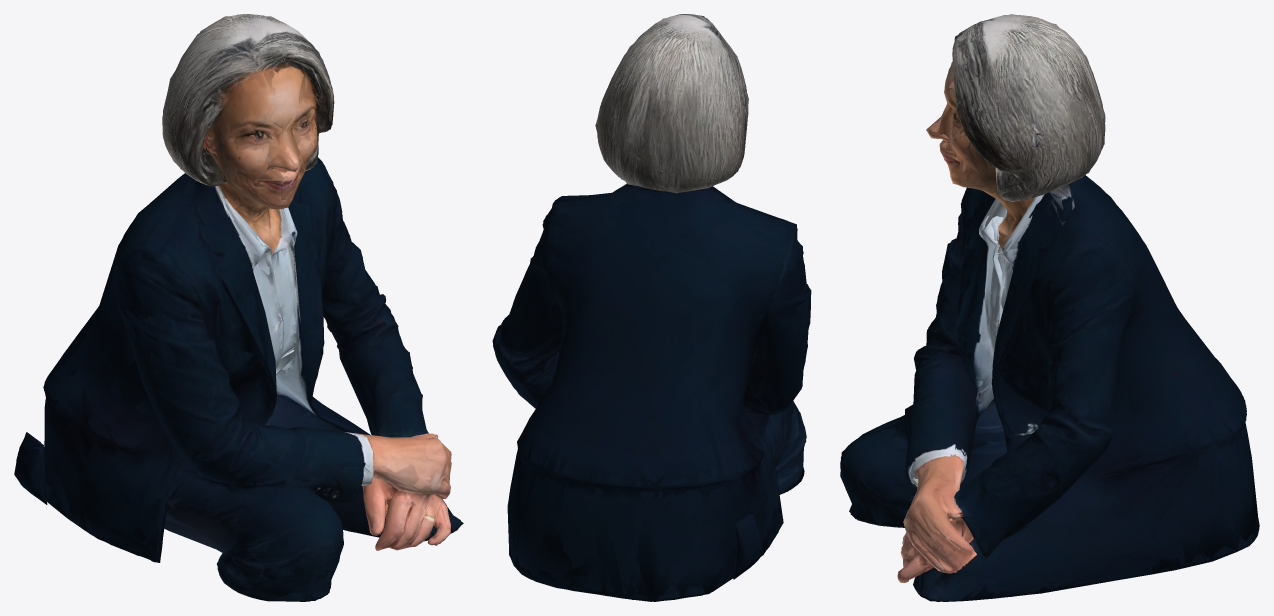
Rendered from professor-heart.glb.
3 views of the same model, side by side, from view 1: azimuth 30°, elevation 25°; view 2: azimuth 150°, elevation 25°; view 3: azimuth 270°, elevation 25° (orthographic). The views are drawn at different scales.
Parts seen in each view (by area): view 1: model_LOD0; view 2: model_LOD0; view 3: model_LOD0.
Boxes of the visible parts, x1,y1,x2,y2 form: model_LOD0: [14, 14, 463, 601]; model_LOD0: [492, 14, 811, 601]; model_LOD0: [840, 14, 1259, 601].
Size of the model in its own units: 1.26 by 1.9 by 1.44.
1 material, 1 textured.
